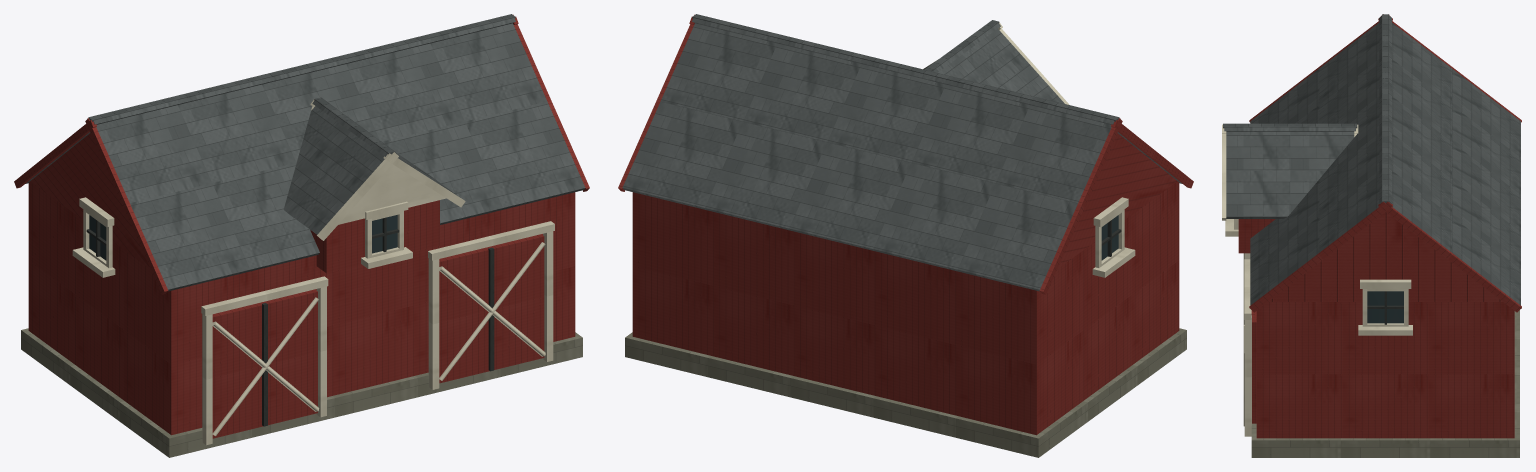
File: country-barn.glb
3 views of the same model, side by side, from view 1: azimuth 30°, elevation 25°; view 2: azimuth 150°, elevation 25°; view 3: azimuth 270°, elevation 25° (orthographic). The views are drawn at different scales.
Visible parts, largest first — view 1: country-barn.001; view 2: country-barn.001; view 3: country-barn.001.
Boxes of the visible parts, bbox=[...] form: country-barn.001: bbox=[14, 14, 589, 457]; country-barn.001: bbox=[618, 14, 1193, 457]; country-barn.001: bbox=[1222, 14, 1521, 457].
Bounding box in the file's own units: 9 × 5.75 × 6.03.
Materials: 1 (1 with a texture image).
